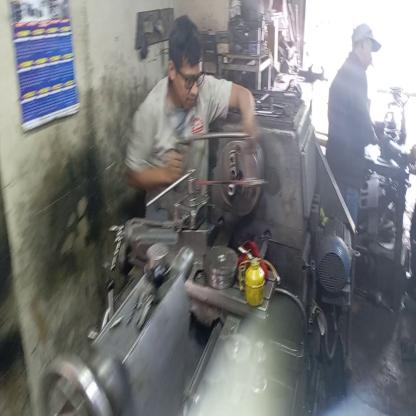lentes: (172, 63, 207, 90)
